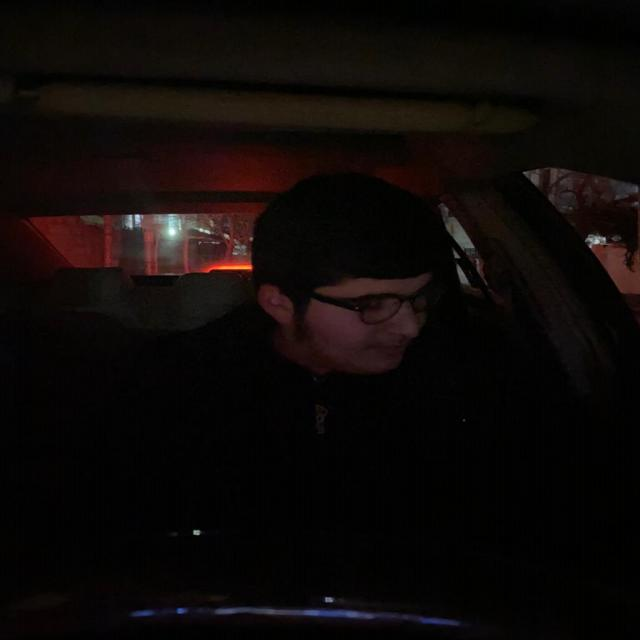drowsy: (236, 164, 457, 384)
